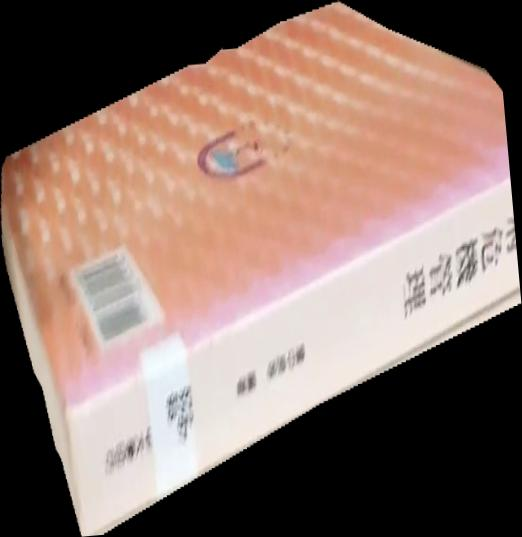flat: (1, 1, 522, 537)
